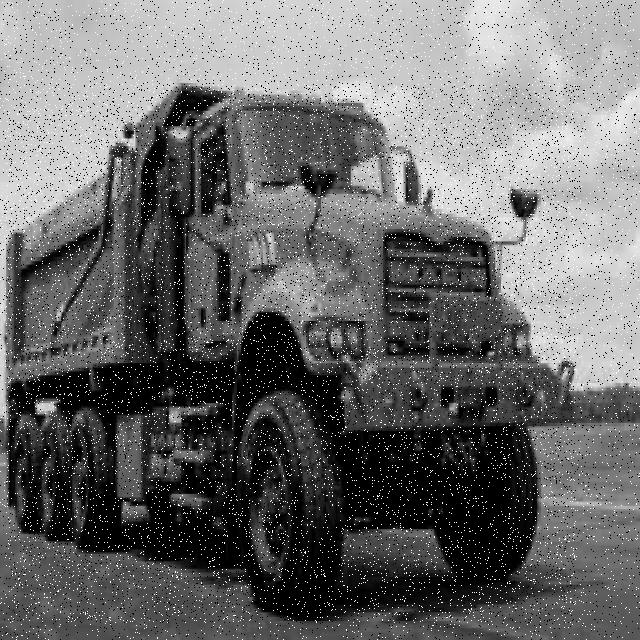Truck- Multi-Axle: (6, 84, 576, 623)
